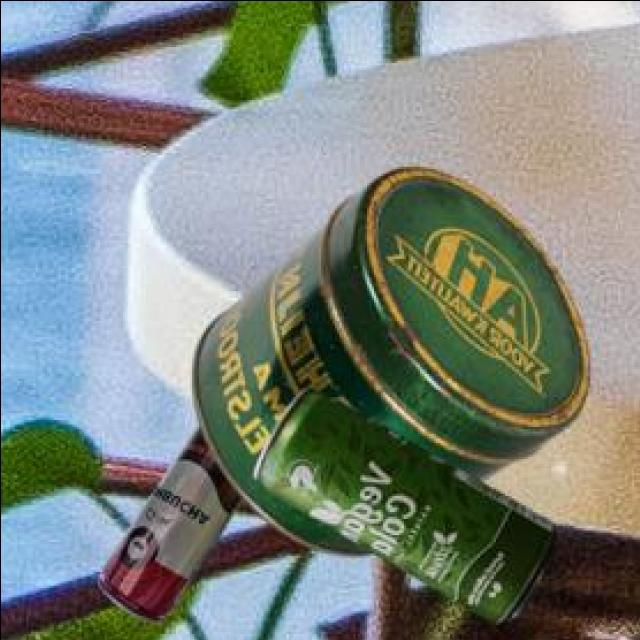logam: (195, 165, 593, 551), (257, 383, 561, 618), (100, 420, 245, 618)
